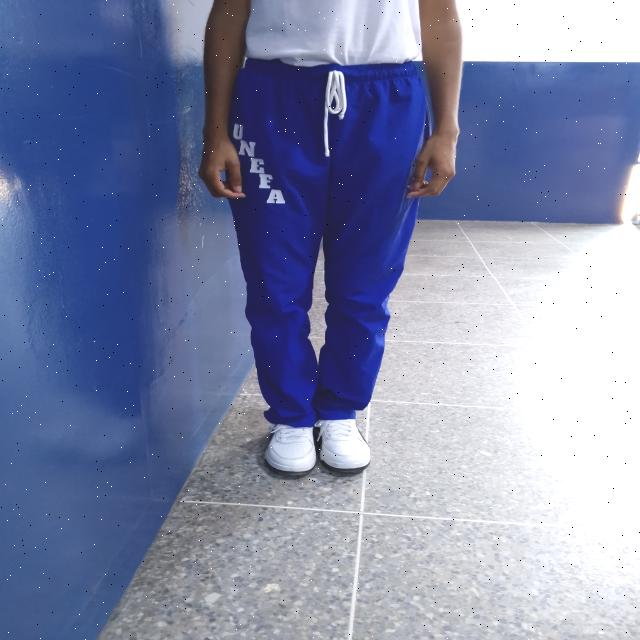uniforme_superior: (227, 56, 433, 427)
